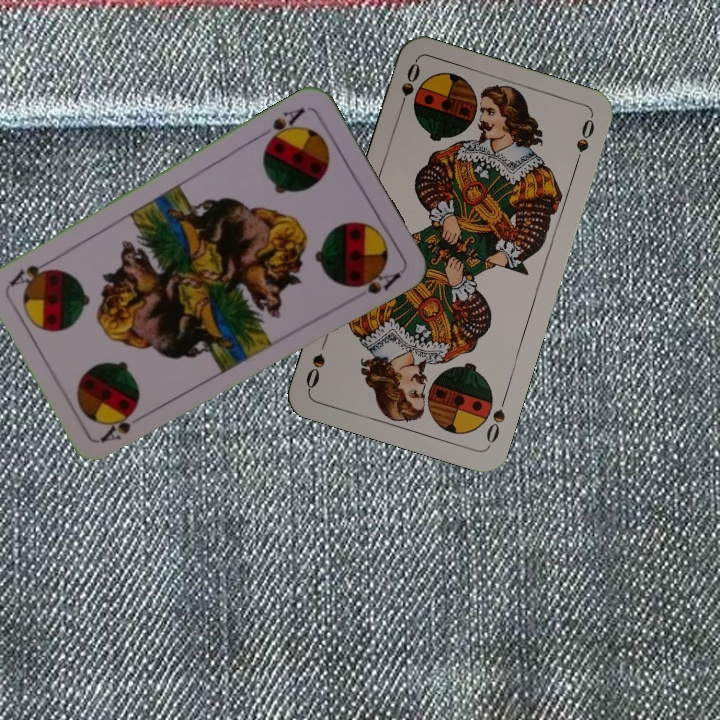SA: (262, 104, 307, 147), (96, 407, 139, 445)
SO: (394, 59, 423, 116), (482, 391, 510, 448)
